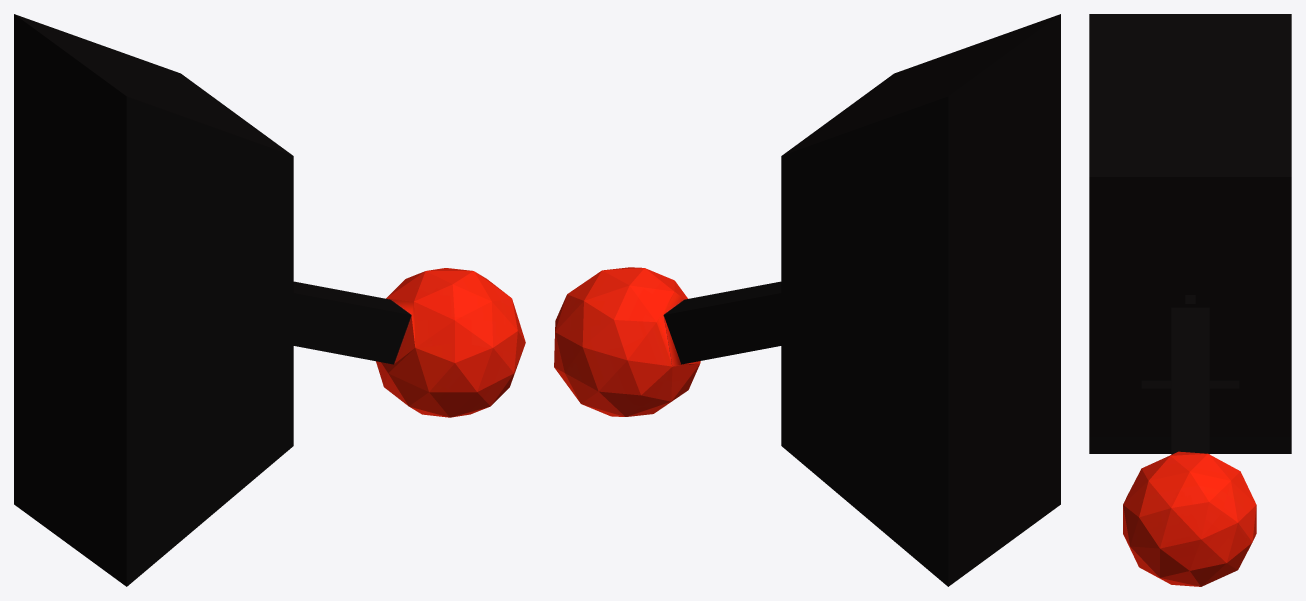
File: palanca5.obj
The picture shows the model from 3 angles, left to right: view 1: azimuth 30°, elevation 25°; view 2: azimuth 150°, elevation 25°; view 3: azimuth 270°, elevation 25°; orthographic projection. The views are drawn at different scales.
Visible parts, largest first — view 1: palanca5; view 2: palanca5; view 3: palanca5.
Part boxes in pixels (x1,y1,x2,y2): palanca5: (14,14,525,586); palanca5: (554,14,1060,586); palanca5: (1089,14,1291,586).
Bounding box in the file's own units: 0.3821 × 0.404 × 0.1682.
2 materials, 1 textured.
